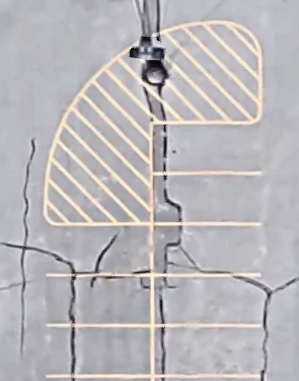Vacant: (153, 172, 260, 225), (152, 224, 260, 276), (151, 122, 260, 173), (154, 326, 261, 377), (48, 223, 152, 275), (47, 326, 153, 377), (153, 276, 259, 326), (48, 276, 152, 325)
